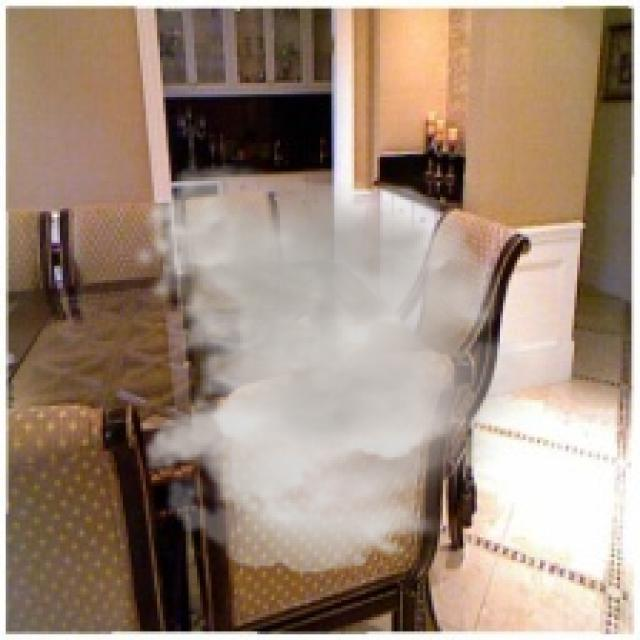Smoke: (132, 162, 554, 574)
